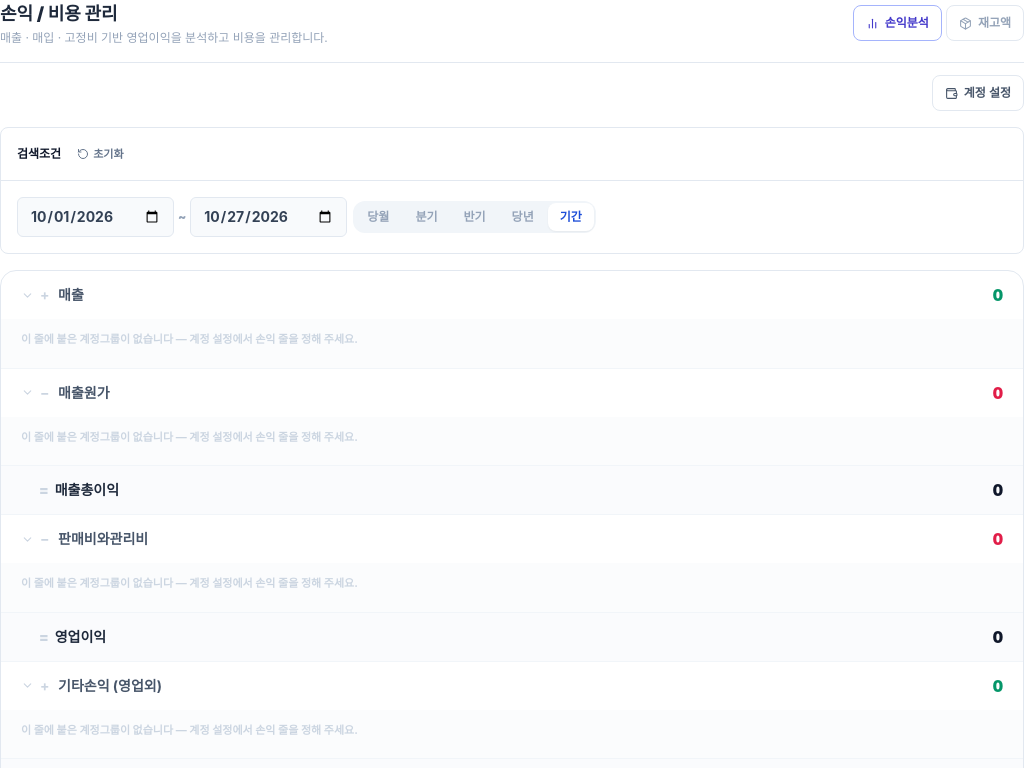
Test: 손익은 보기탭 다음 계정설정 행동과 기간 조회를 분리한다
Check: the element showing "손익분석 재고액" is shown, box [853,5,1023,41]
Type "2026-08-01" into the date field named "조회 시작일" at {"x": 96, "y": 217}, box [17,197,174,237]
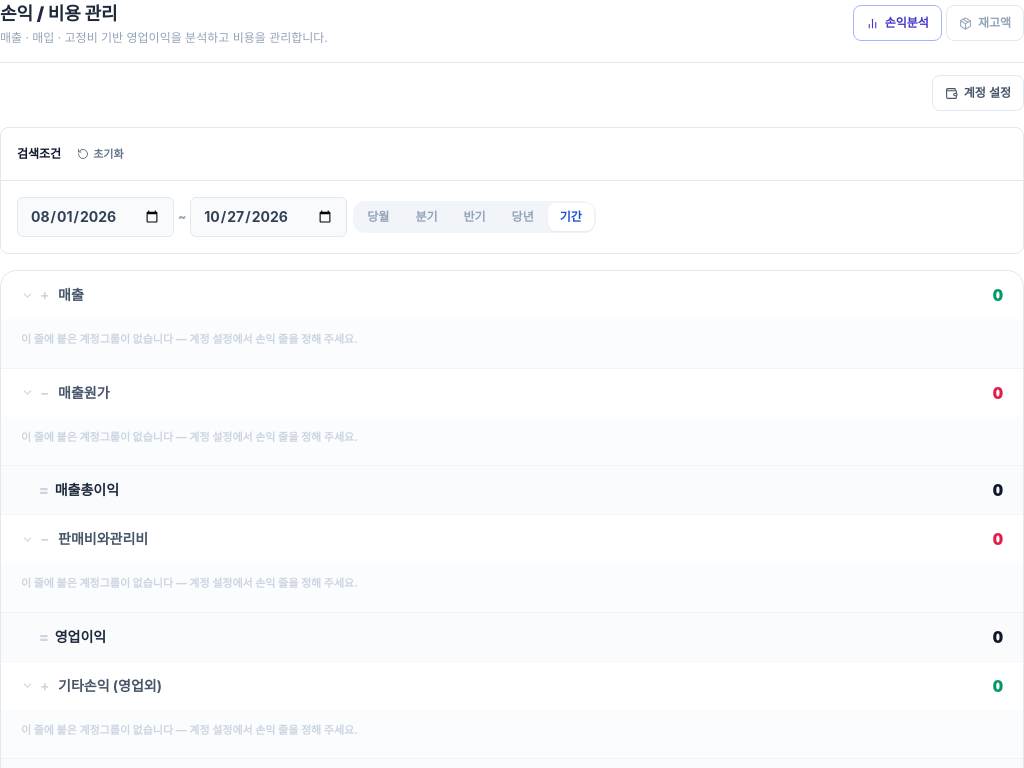
Click the button "초기화" at {"x": 100, "y": 154}, box [69,138,132,170]
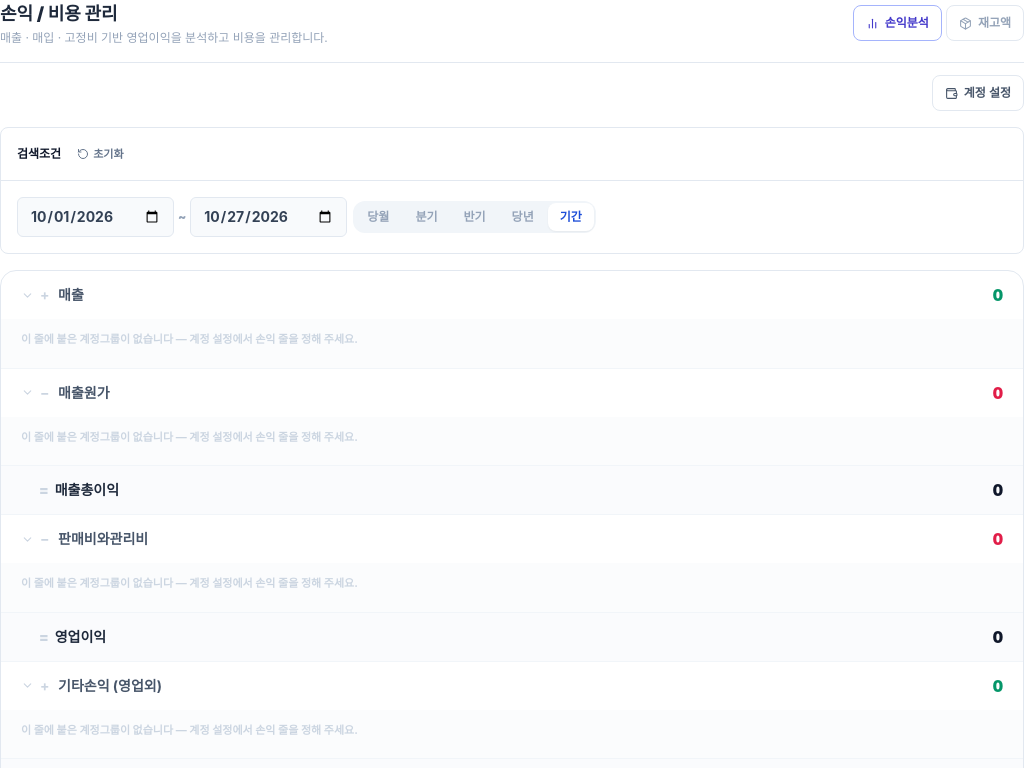
Check: the date field named "조회 시작일" does not hold "2026-08-01", box [17,197,174,237]
Click the button "계정 설정" at {"x": 978, "y": 93}, box [932,75,1023,111]
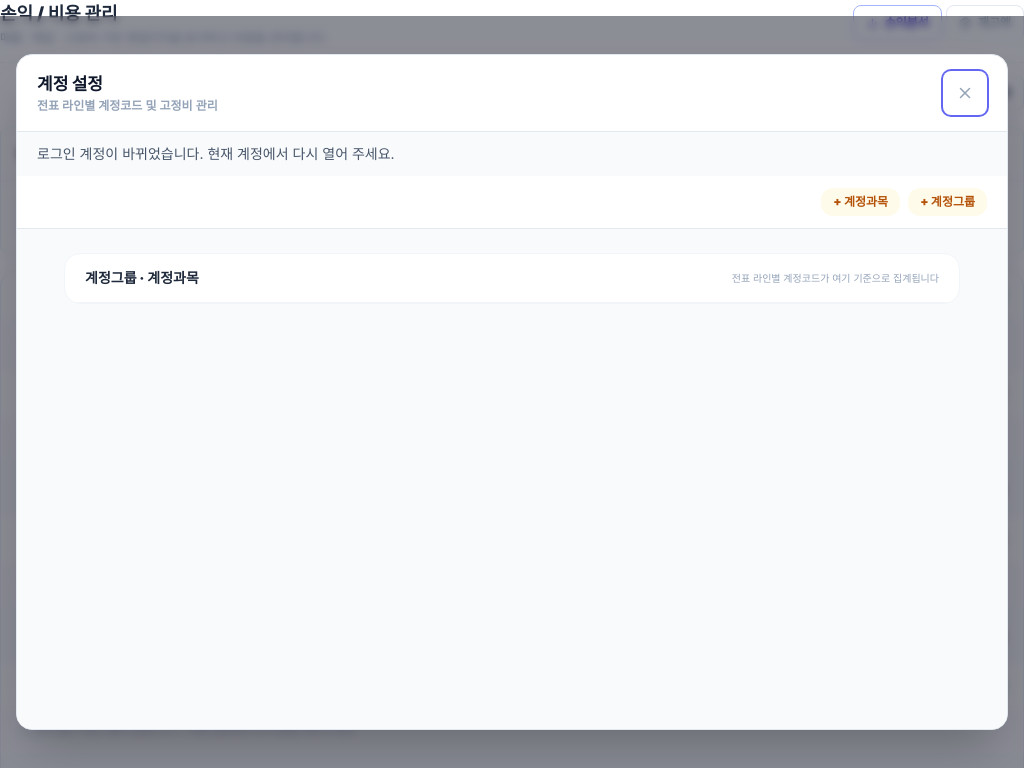
Check: the dialog "계정 설정" is shown
